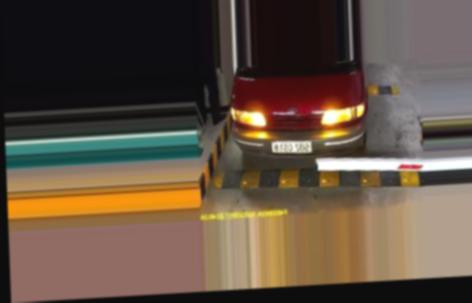License_Plate: (270, 138, 312, 156)
